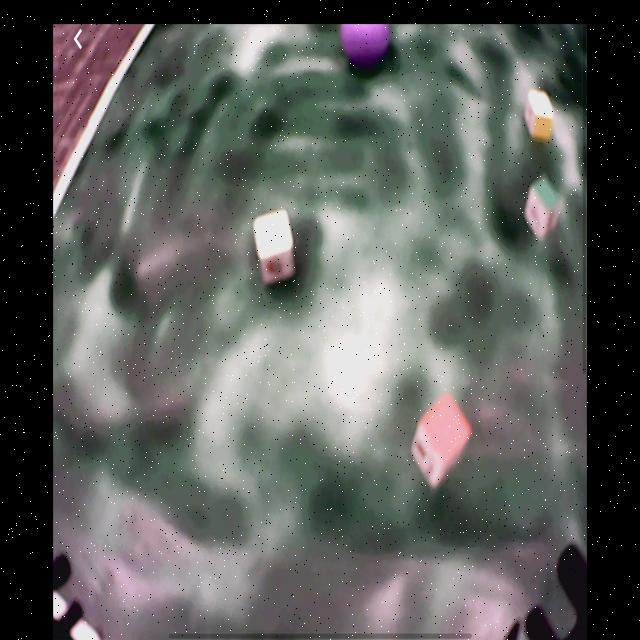ball: (340, 25, 390, 66)
